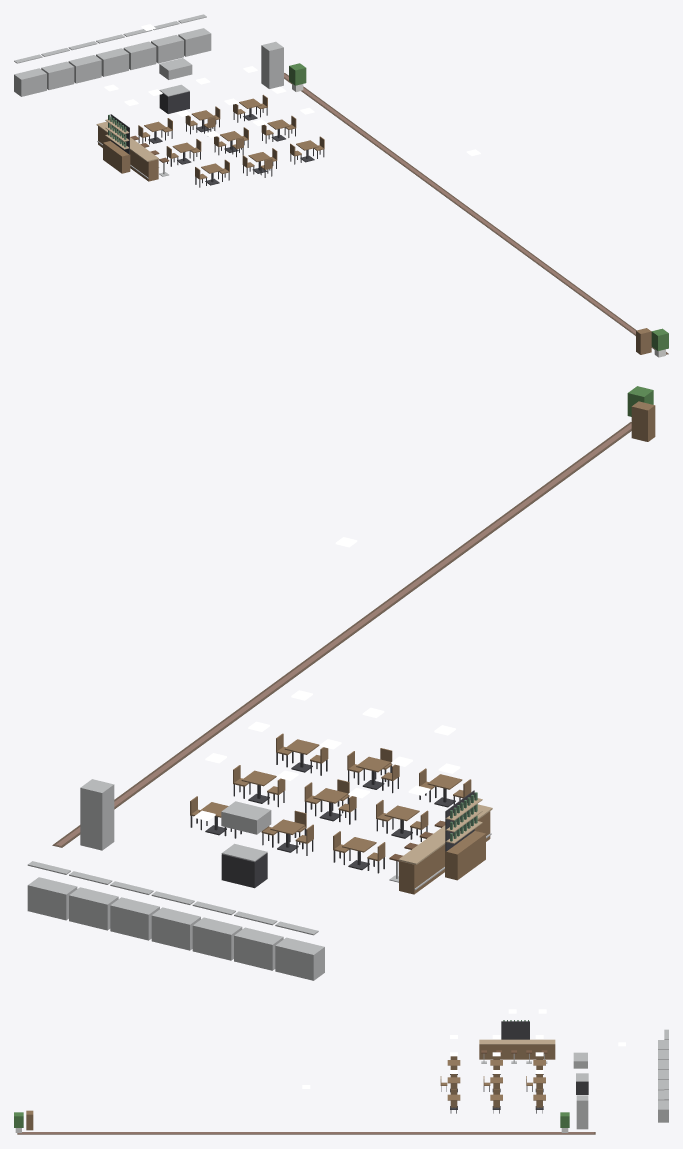
Rendered from fine-s0.glb.
3 renders of one model, top to bottom at view 1: azimuth 30°, elevation 25°; view 2: azimuth 150°, elevation 25°; view 3: azimuth 270°, elevation 25°, orthographic. The views are drawn at different scales.
Visible parts, largest first — view 1: soft-s0, range.000, back-bar.000, fridge.000, kitchen-counter.000, kitchen-counter.001, kitchen-counter.006, kitchen-counter.002, kitchen-counter.003, kitchen-counter.004, kitchen-counter.005, bar-counter.003; view 2: soft-s0, range.000, back-bar.000, fridge.000, kitchen-counter.000, kitchen-counter.002, kitchen-counter.006, kitchen-counter.005, kitchen-counter.001, kitchen-counter.004, kitchen-counter.003, bar-counter.000 (+1 smaller); view 3: soft-s0, back-bar.000, range.000, fridge.000, bar-counter.001, bar-counter.002, bar-counter.003, bar-counter.000, kitchen-counter.006.
Boxes of the visible parts, box(x1,y1,x2,y2) form: soft-s0: box(284, 73, 668, 354); range.000: box(159, 58, 192, 113); back-bar.000: box(103, 114, 130, 173); fridge.000: box(261, 41, 283, 88); kitchen-counter.000: box(14, 54, 46, 96); kitchen-counter.001: box(41, 48, 74, 89); kitchen-counter.006: box(178, 14, 211, 56); kitchen-counter.002: box(68, 41, 101, 83); kitchen-counter.003: box(96, 34, 128, 76); kitchen-counter.004: box(123, 29, 156, 69); kitchen-counter.005: box(151, 21, 183, 63); bar-counter.003: box(134, 149, 158, 181); soft-s0: box(52, 422, 631, 847); range.000: box(221, 801, 271, 888); back-bar.000: box(445, 790, 485, 880); fridge.000: box(80, 779, 114, 850); kitchen-counter.000: box(275, 921, 324, 980); kitchen-counter.002: box(192, 901, 242, 960); kitchen-counter.006: box(27, 861, 77, 920); kitchen-counter.005: box(69, 871, 118, 930); kitchen-counter.001: box(234, 911, 283, 970); kitchen-counter.004: box(110, 881, 159, 940); kitchen-counter.003: box(151, 891, 200, 950); bar-counter.000: box(398, 845, 435, 894); soft-s0: box(17, 1132, 595, 1134); back-bar.000: box(501, 1020, 529, 1039); range.000: box(573, 1052, 588, 1094); fridge.000: box(576, 1095, 588, 1129); bar-counter.001: box(517, 1039, 536, 1059); bar-counter.002: box(498, 1039, 517, 1059); bar-counter.003: box(479, 1039, 498, 1059); bar-counter.000: box(536, 1039, 555, 1059); kitchen-counter.006: box(658, 1090, 668, 1122).
Bounding box in the file's own units: 12.42 × 3.25 × 41.25.
